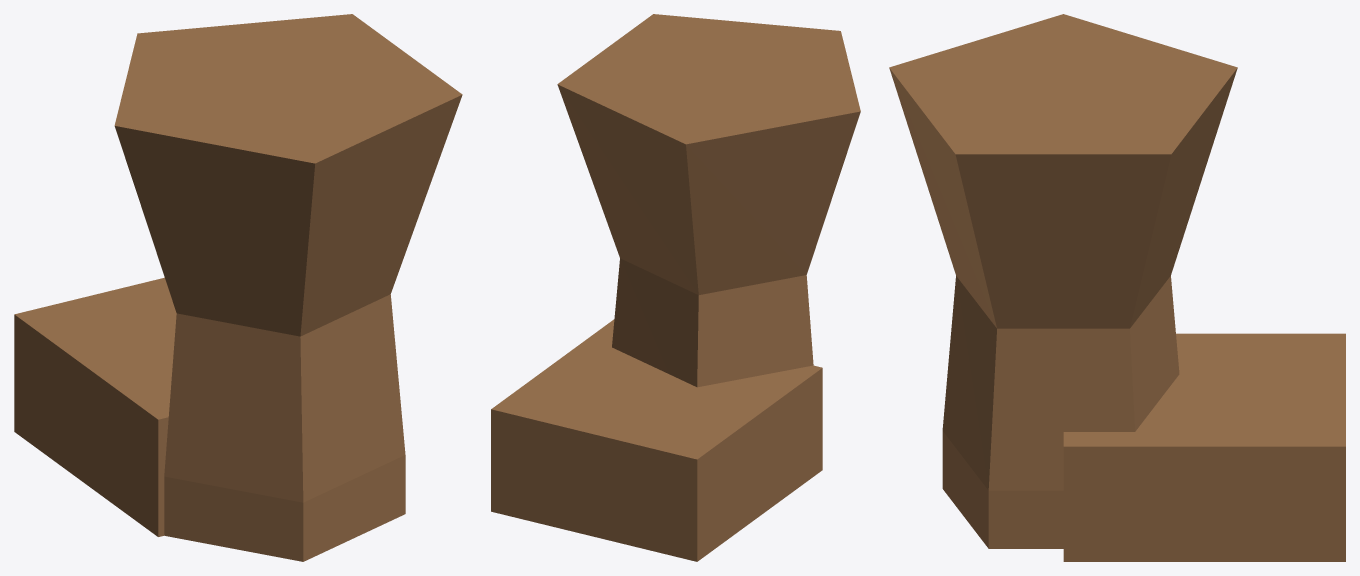
The model's file is animal_guineapig_leg.obj.
3 views of the same model, side by side, from view 1: azimuth 30°, elevation 25°; view 2: azimuth 150°, elevation 25°; view 3: azimuth 270°, elevation 25° (orthographic). The views are drawn at different scales.
Parts seen in each view (by area): view 1: animal_guineapig_leg; view 2: animal_guineapig_leg; view 3: animal_guineapig_leg.
Part boxes in pixels (box(x1,y1,x2,y2)): animal_guineapig_leg: box(14, 14, 462, 561); animal_guineapig_leg: box(491, 14, 860, 561); animal_guineapig_leg: box(889, 14, 1345, 561).
Size of the model in its own units: 0.059 by 0.0812 by 0.0812.
